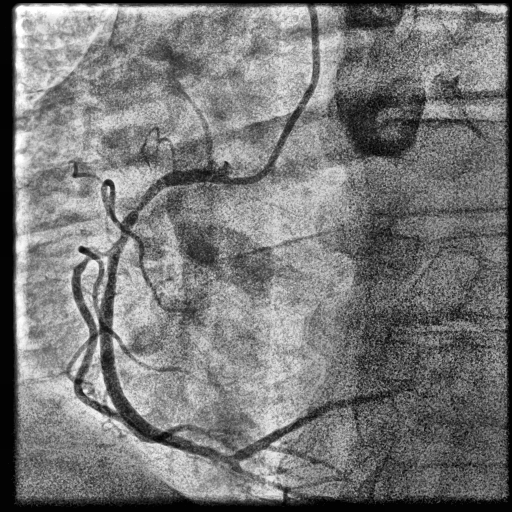pborca: (232, 389, 398, 462)
pda: (232, 465, 313, 501)
rca: (101, 164, 240, 470)
